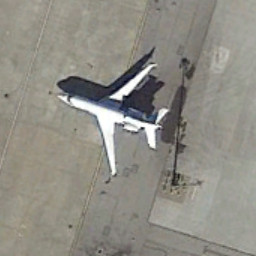Airplane: (43, 39, 177, 188)
